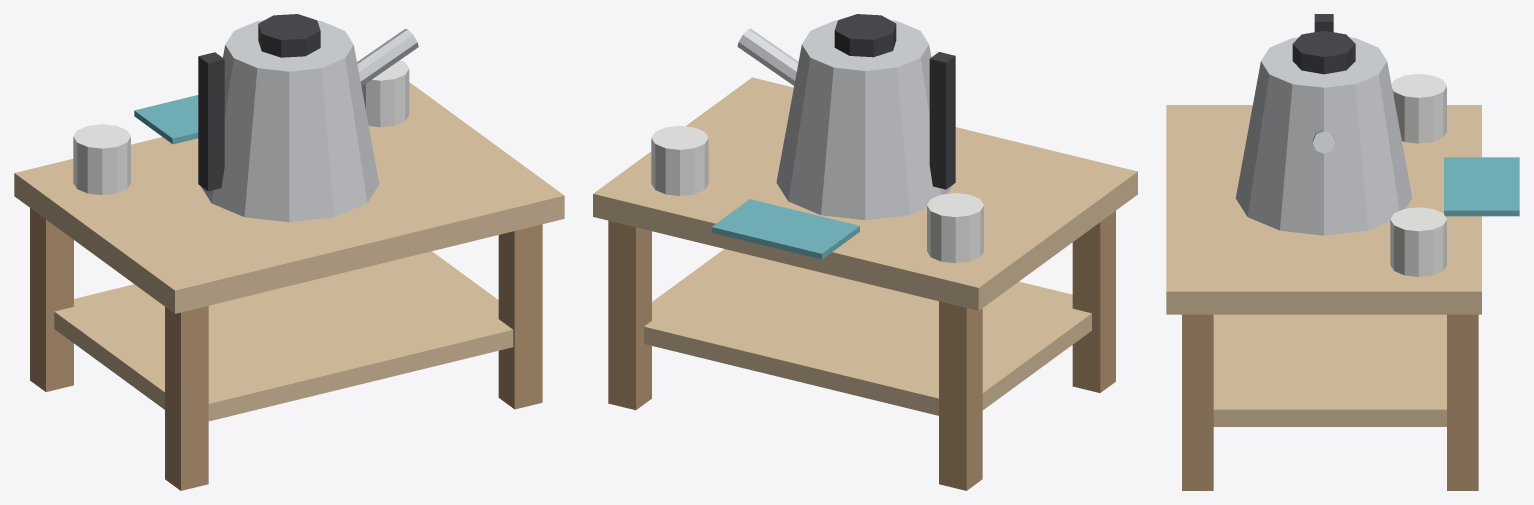
File: tea_kettle.glb
3 views of the same model, side by side, from view 1: azimuth 30°, elevation 25°; view 2: azimuth 150°, elevation 25°; view 3: azimuth 270°, elevation 25° (orthographic).
Visible parts, largest first — view 1: tea_kettle; view 2: tea_kettle; view 3: tea_kettle.
Part boxes in pixels (box(x1,y1,x2,y2)): tea_kettle: box(14, 14, 564, 490); tea_kettle: box(593, 14, 1137, 490); tea_kettle: box(1166, 14, 1519, 490).
Size of the model in its own units: 0.7 by 0.63 by 0.56.
